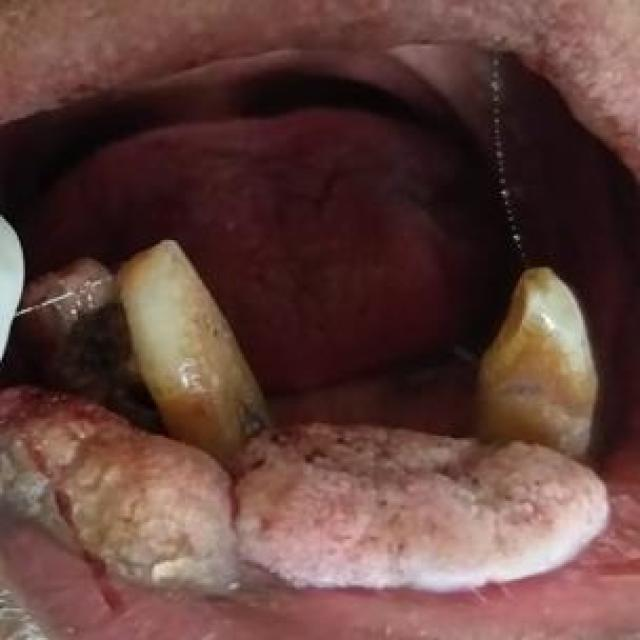cancer-detection: (0, 379, 619, 600)
processing_area: (2, 379, 638, 638)
